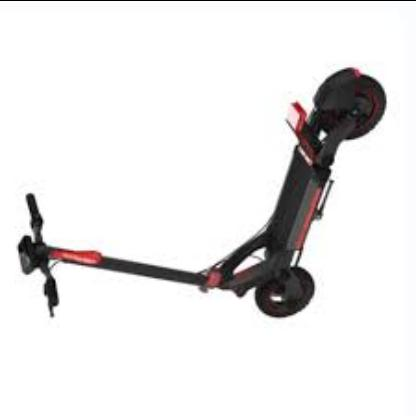bike: (16, 66, 389, 320)
